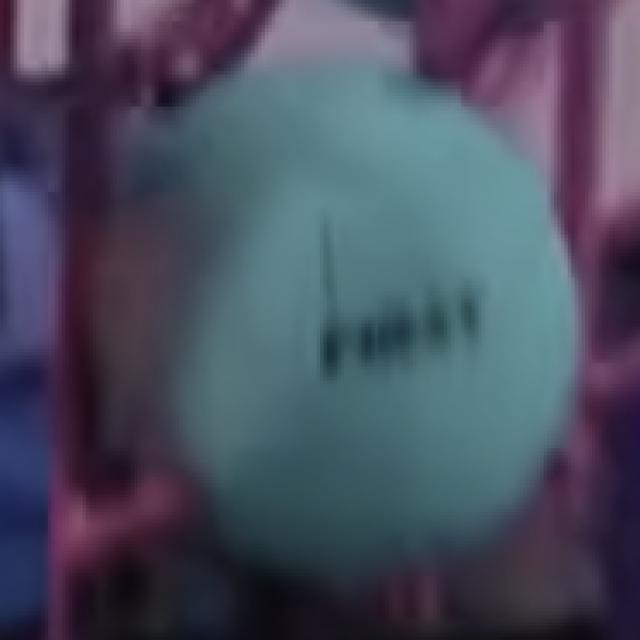Algae: (99, 56, 579, 580)
Reef: (72, 465, 205, 584)
